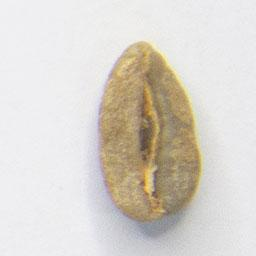longberry: (94, 36, 205, 224)
